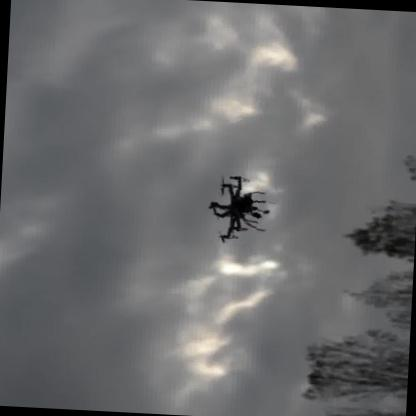drone: (199, 168, 278, 247)
